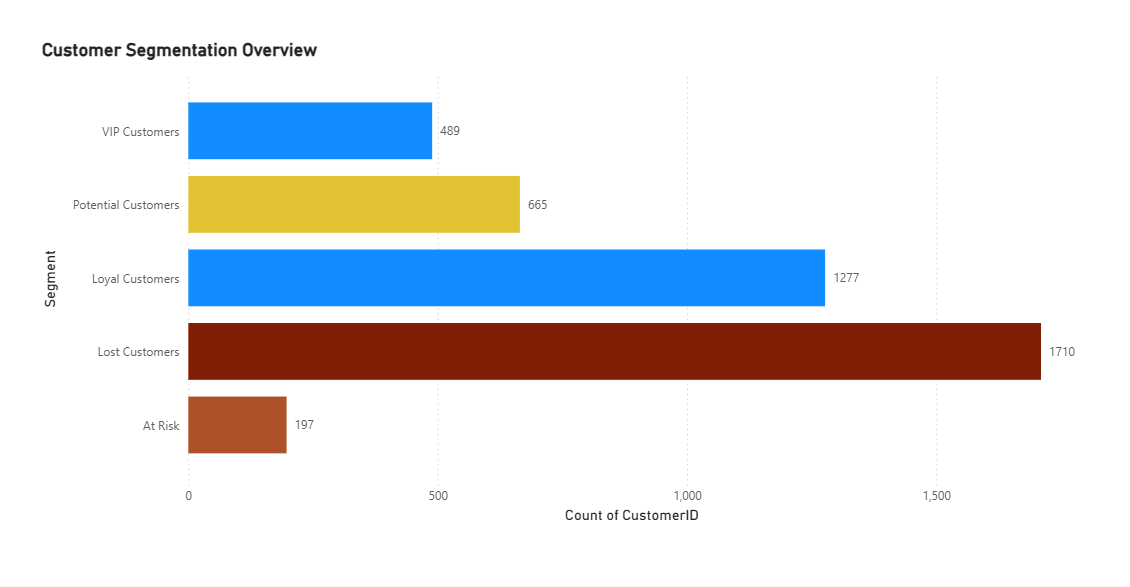

The dashboard page shown, as its layout file describes it:
{"tool":"powerbi","page":{"name":"Page 2","canvas":[1280,720],"ordinal":1},"visuals":[{"type":"barChart","title":"Customer Segmentation Overview","fields":{"Category":["rfm_segmented.Segment"],"Y":["Count(rfm_segmented.CustomerID)"]},"box":[129.4,70.9,1053.6,486.4],"z":0}]}

Visuals, with their boxes on the page's 1280x720 design canvas (x1, y1, x2, y2). These are canvas units, not pixel positions in the 1130x587 screenshot, which may show the page scaled, cropped or inside an application window:
"Customer Segmentation Overview" barChart: bbox=[129, 71, 1183, 557]
